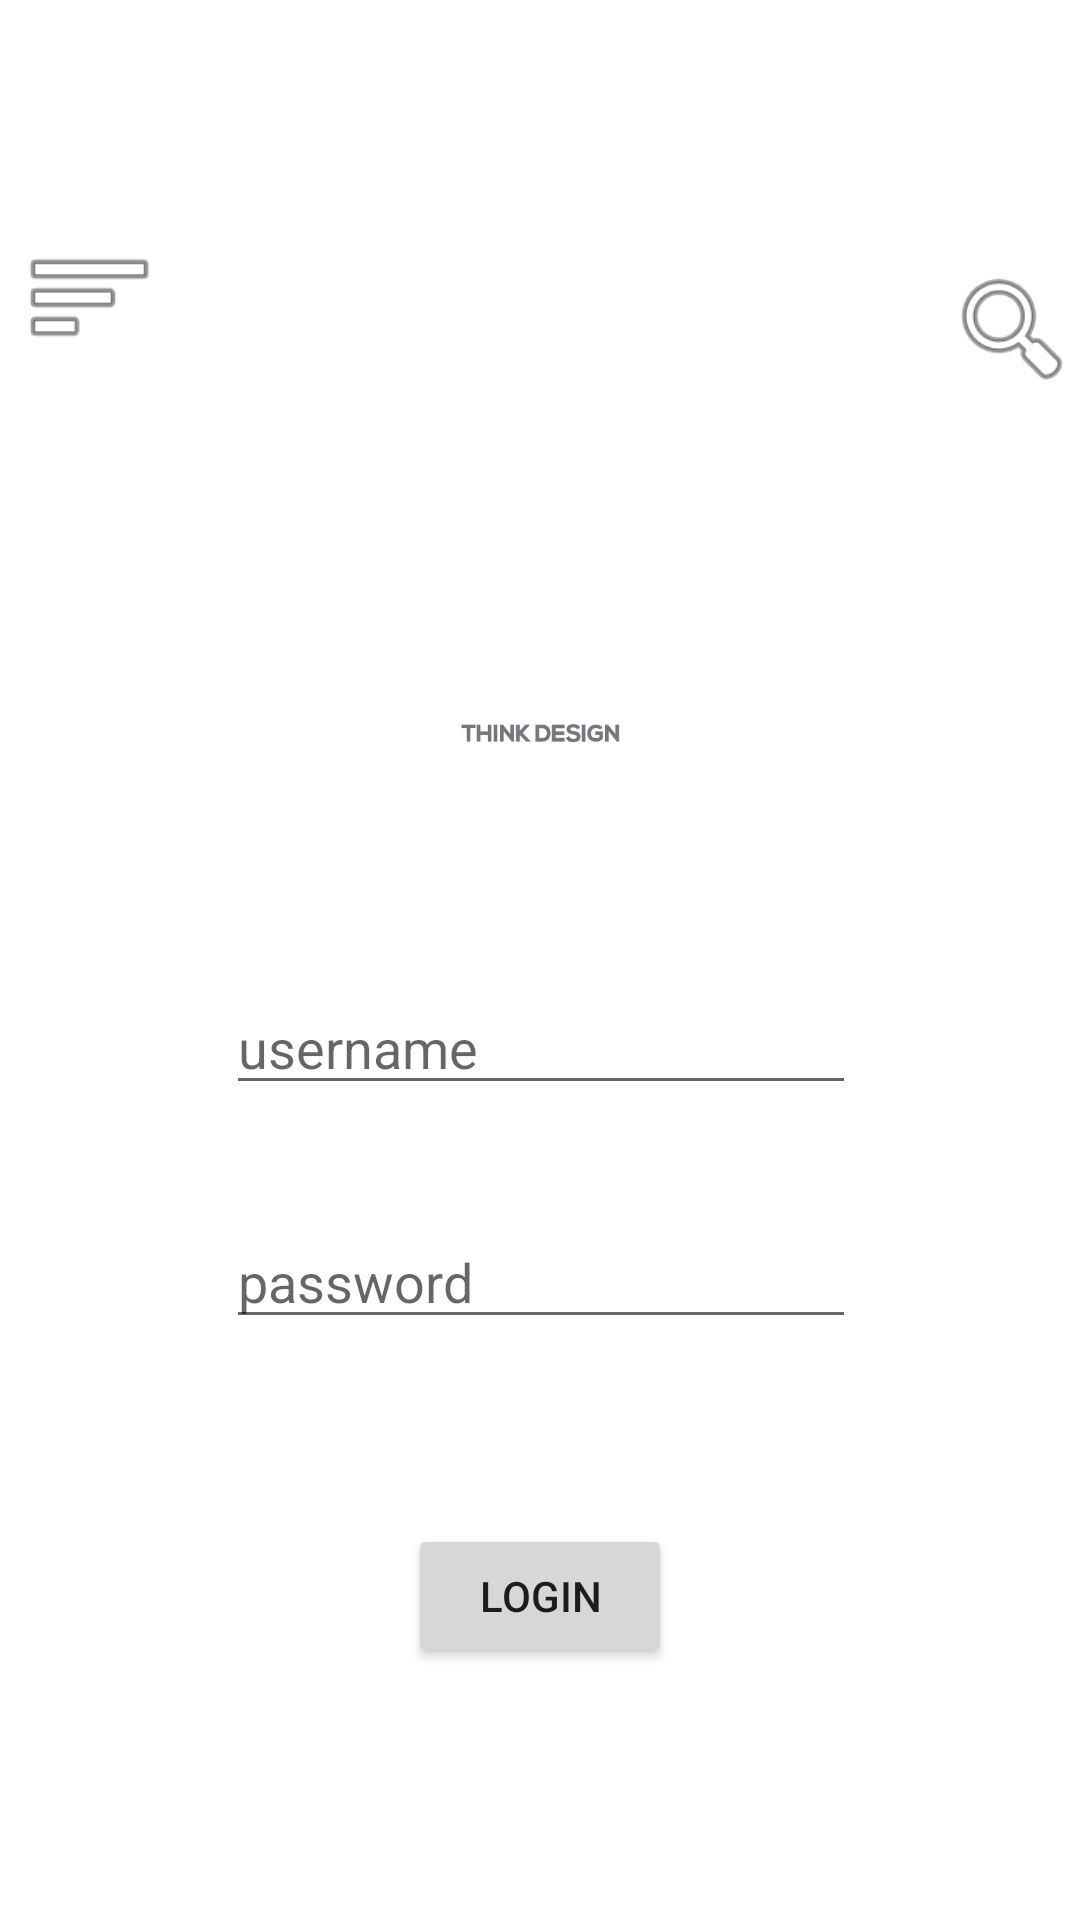

Named icons in this screenshot (1080×1920) and their centers, point (x, y):
search: point (1012, 329)
sort by size: point (89, 297)
